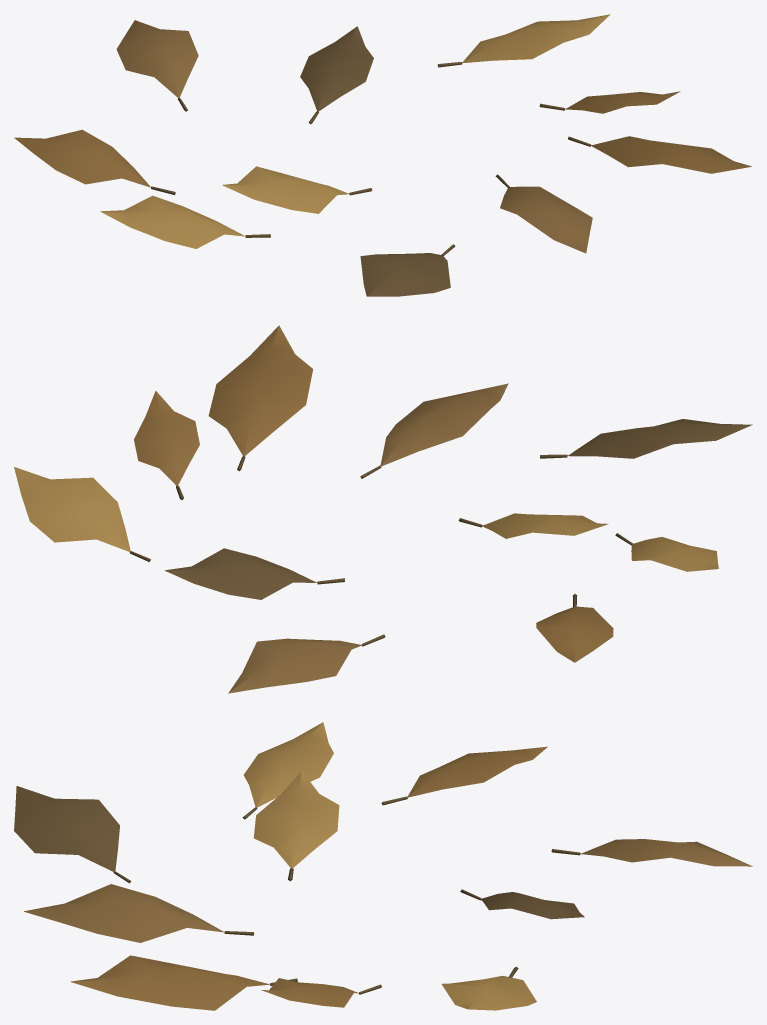
The model's file is meadow_leaf_litter.glb.
3 renders of one model, top to bottom at view 1: azimuth 30°, elevation 25°; view 2: azimuth 150°, elevation 25°; view 3: azimuth 270°, elevation 25°, orthographic. The views are drawn at different scales.
Parts seen in each view (by area): view 1: body; view 2: body; view 3: body.
Part boxes in pixels (<box>): body: <box>14,14,751,296</box>; body: <box>14,325,752,693</box>; body: <box>14,722,752,1010</box>.
Bounding box in the file's own units: 0.4173 × 0.0265 × 0.4475.
